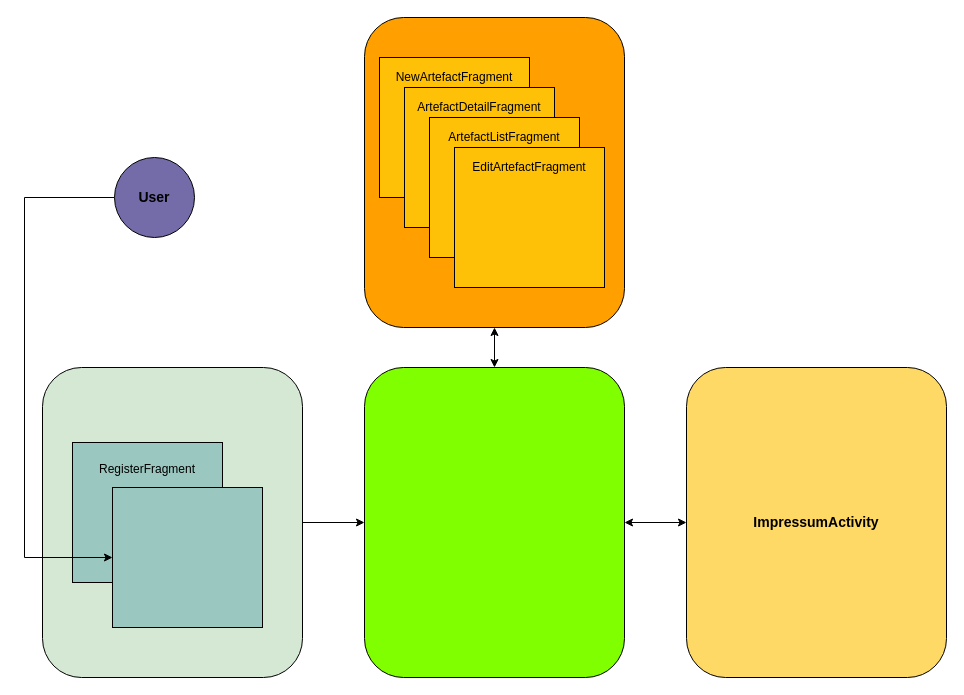
Some shapes in this 964 by 695 pixel diagram are drawn without their labels. The box of each missing label's shape, as (x1, y1, x2, y2) in pixels:
ArtefactActivity: (364, 16, 624, 328)
LoginFragment: (112, 486, 262, 628)
MainActivity: (42, 366, 302, 678)
MapActivity: (364, 366, 624, 678)
